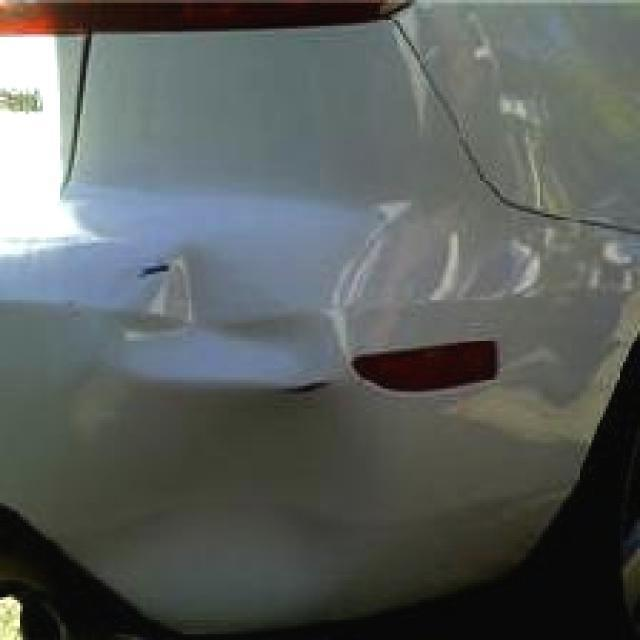minor: (0, 243, 445, 635), (135, 262, 176, 298)
